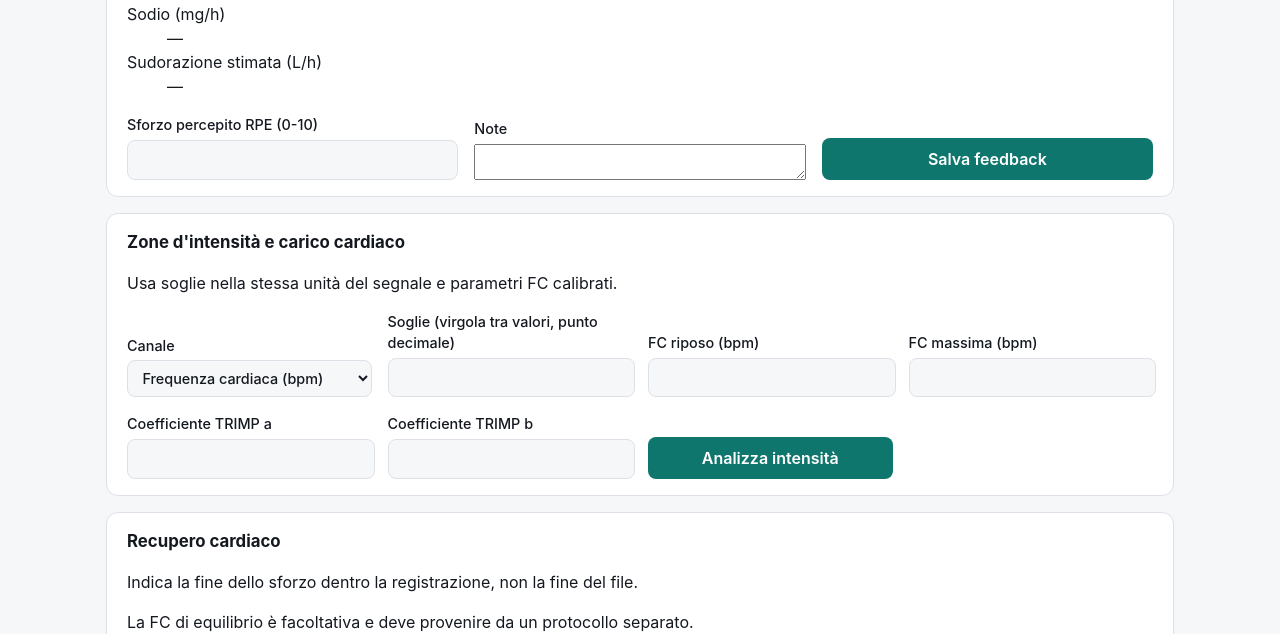
it: intensità della seduta › visualizza copertura e zone senza introdurre parametri cardiaci impliciti
(page scrolled)
Type "130,150" into the field labelled "Soglie (virgola tra valori, punto decimale)" at (511, 378), box [388,358,635,398]
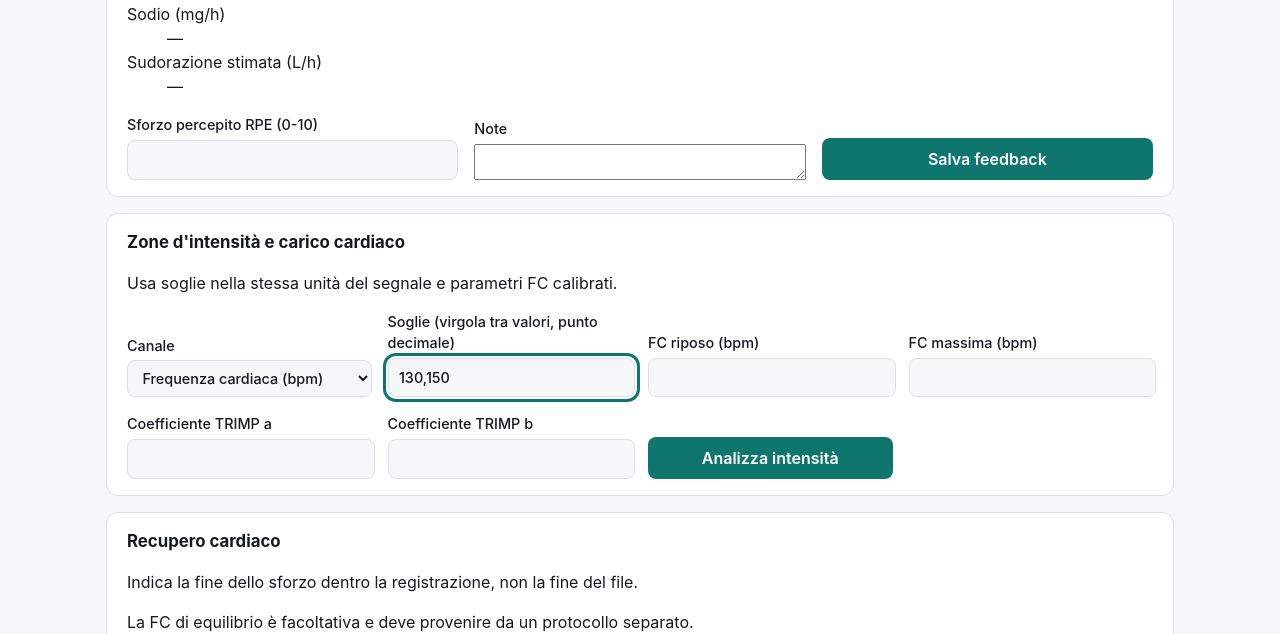
Click the button "Analizza intensità" at (770, 458), box [648,437,892,479]
(page scrolled)
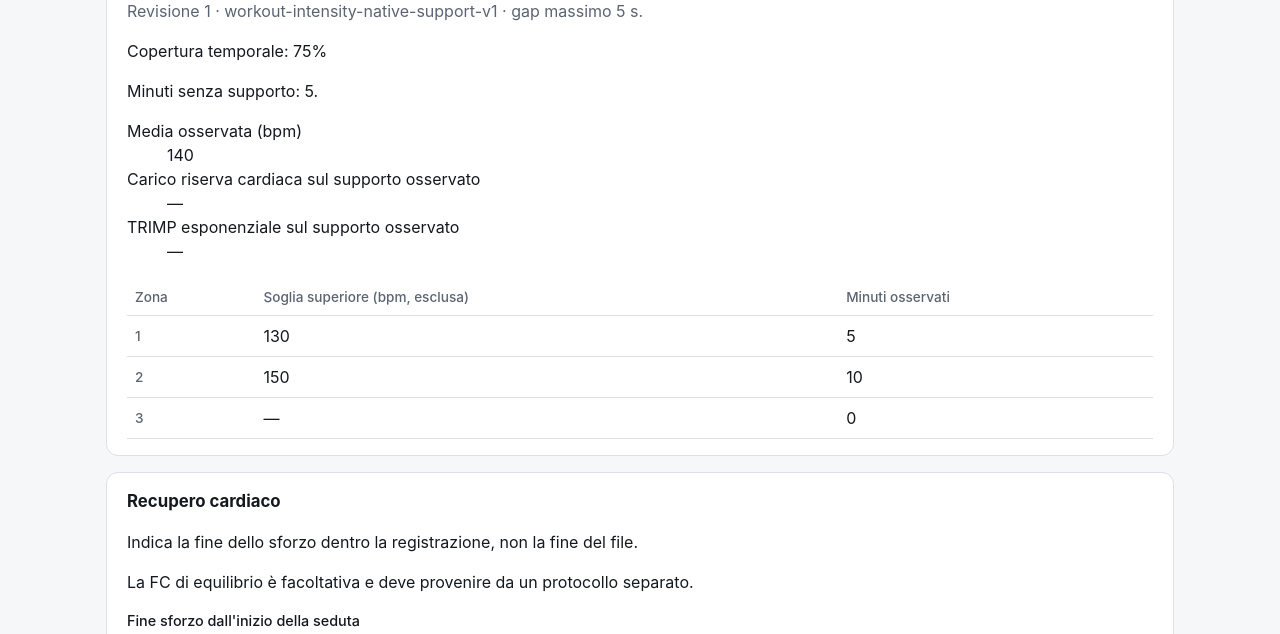
Now the text "Copertura temporale: 75%" is shown, box [127,41,327,61]
Now the text "140" is shown, box [167,145,194,165]
Now the row "2 150 10" is shown, box [127,357,1153,398]
